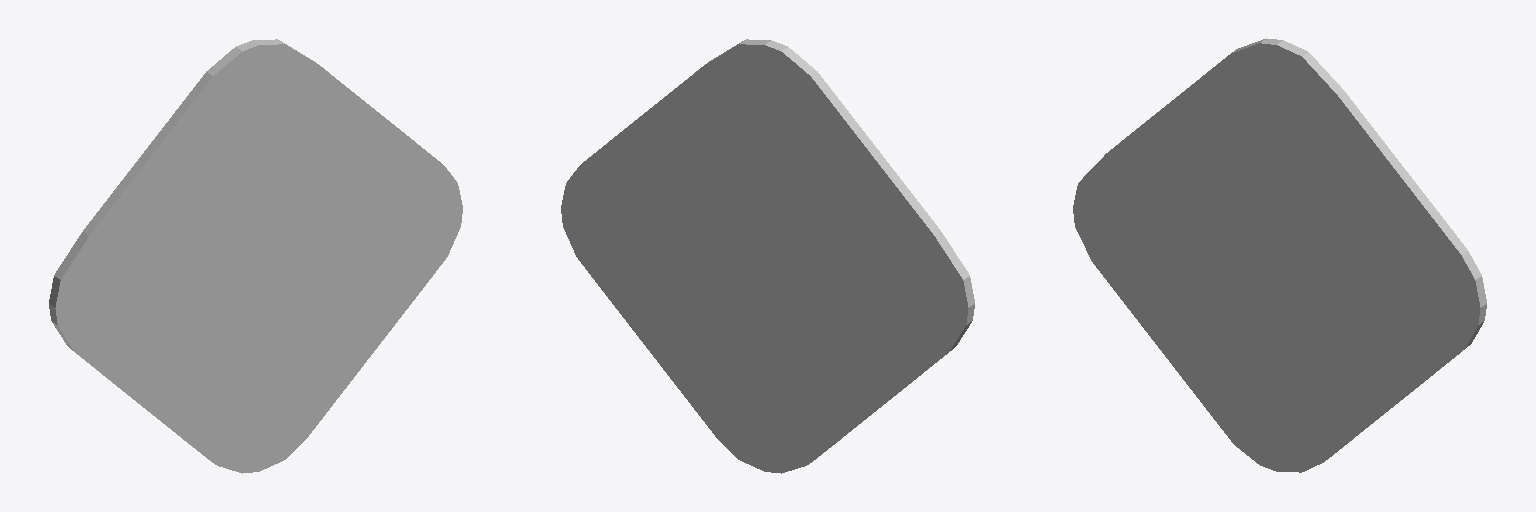
The model's file is SP_Leaf.obj.
3 renders of one model, left to right at view 1: azimuth 30°, elevation 25°; view 2: azimuth 150°, elevation 25°; view 3: azimuth 330°, elevation 25°, orthographic.
Visible parts, largest first — view 1: Special_Leaf; view 2: Special_Leaf; view 3: Special_Leaf.
Part boxes in pixels (x1,y1,x2,y2): Special_Leaf: (49, 39, 462, 473); Special_Leaf: (561, 39, 974, 473); Special_Leaf: (1073, 38, 1486, 472).
Bounding box in the file's own units: 14.64 × 14.64 × 0.4138.